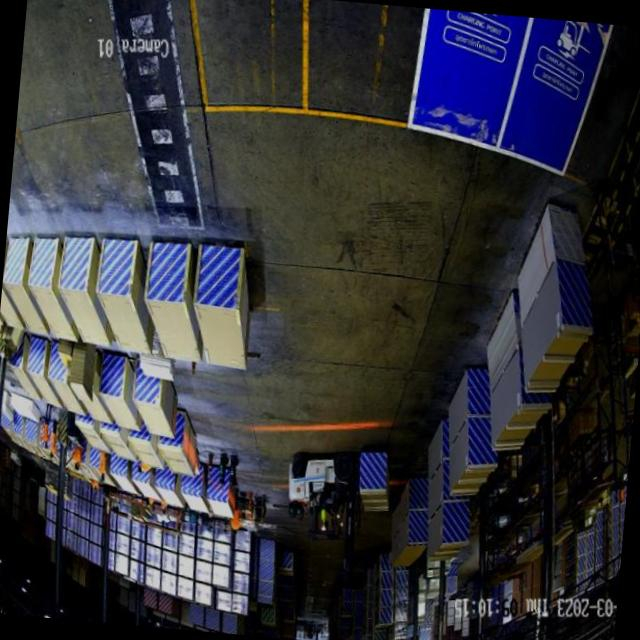driver: (313, 488, 338, 533)
forklift: (274, 440, 368, 587)
person: (37, 404, 54, 451), (46, 416, 60, 460), (228, 507, 243, 536), (71, 447, 85, 472), (98, 452, 109, 482)
